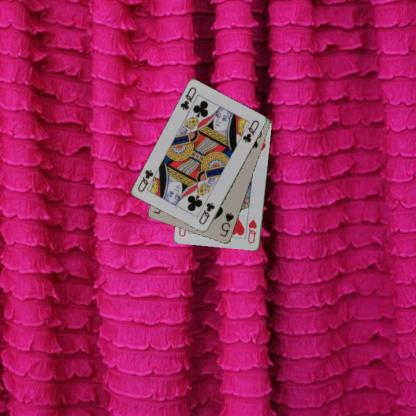5s: (217, 210, 235, 238)
Qc: (178, 84, 198, 112), (197, 200, 216, 226)
Qh: (246, 217, 258, 245)
